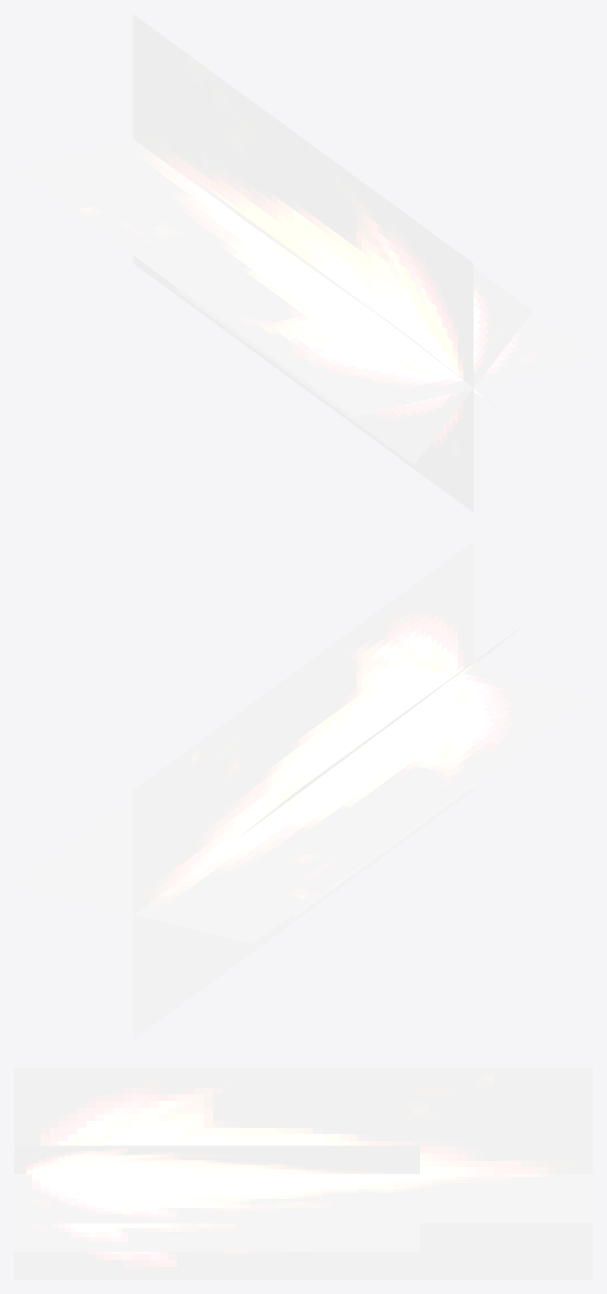
File: sfx_mon_0020_gunfire1.glb
The picture shows the model from 3 angles, top to bottom: view 1: azimuth 30°, elevation 25°; view 2: azimuth 150°, elevation 25°; view 3: azimuth 270°, elevation 25°; orthographic projection. The views are drawn at different scales.
Parts seen in each view (by area): view 1: sfx_mon_0020_gunfire1; view 2: sfx_mon_0020_gunfire1; view 3: sfx_mon_0020_gunfire1.
Boxes of the visible parts, x1,y1,x2,y2 form: sfx_mon_0020_gunfire1: [14, 14, 592, 512]; sfx_mon_0020_gunfire1: [14, 541, 592, 1039]; sfx_mon_0020_gunfire1: [14, 1068, 592, 1279].
Size of the model in its own units: 0.5144 by 0.5144 by 1.27.
Materials: 1 (1 with a texture image).
